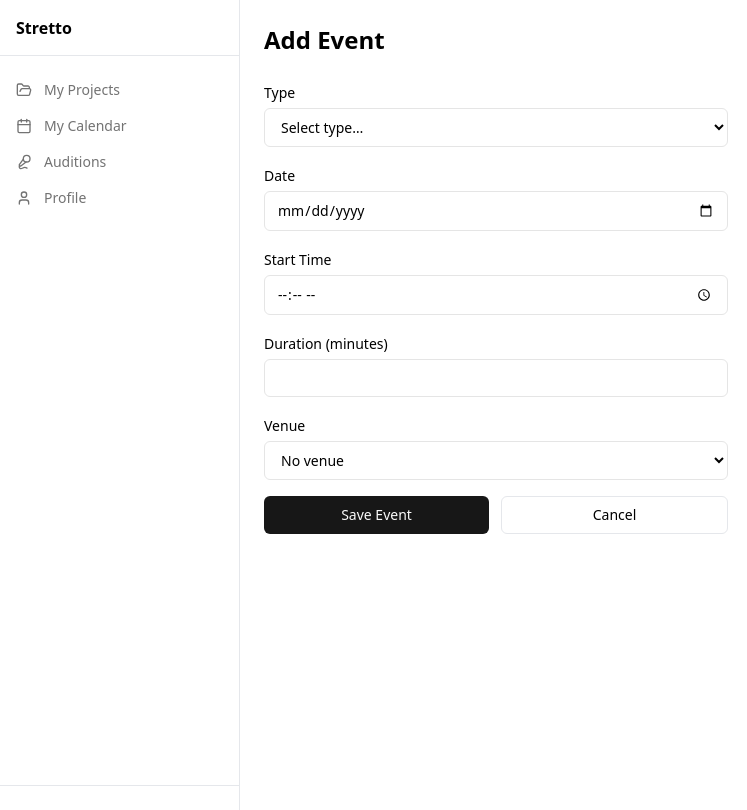
Test: shows start time validation error when start time is missing
The width and height of the screenshot is (747, 810).
In the number field with test id "duration-input": (496, 378) [264,359,728,397], type "120"
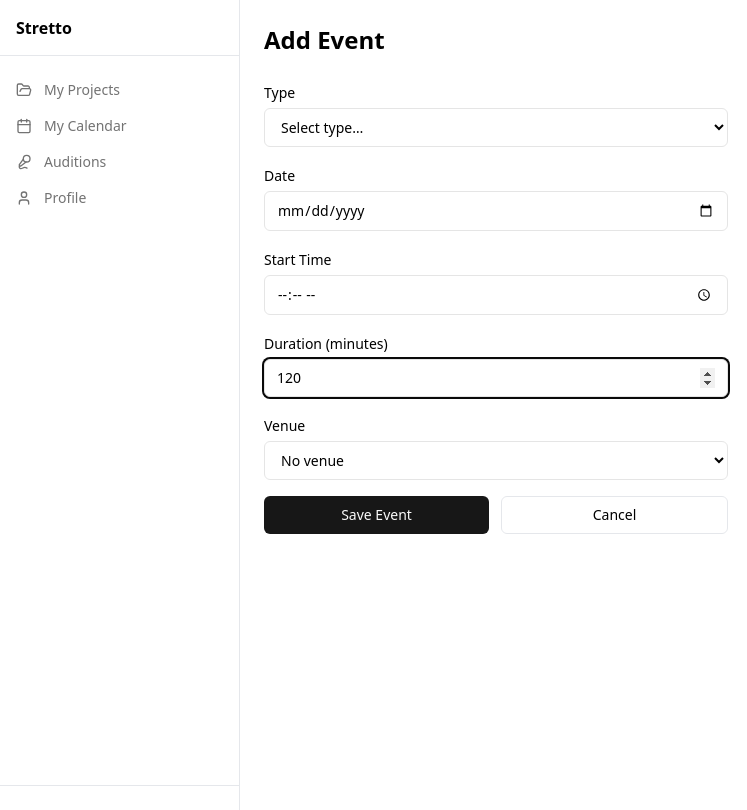
Click the button with test id "submit-button": (376, 515) [264,496,489,534]
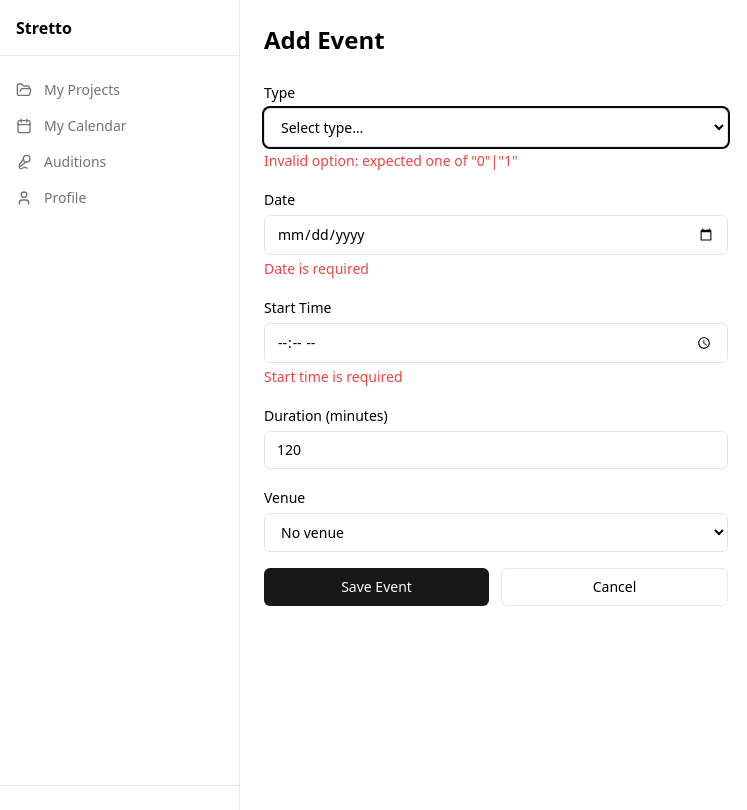
expect the text "Start time is required" is shown: met, box [264,367,403,386]
